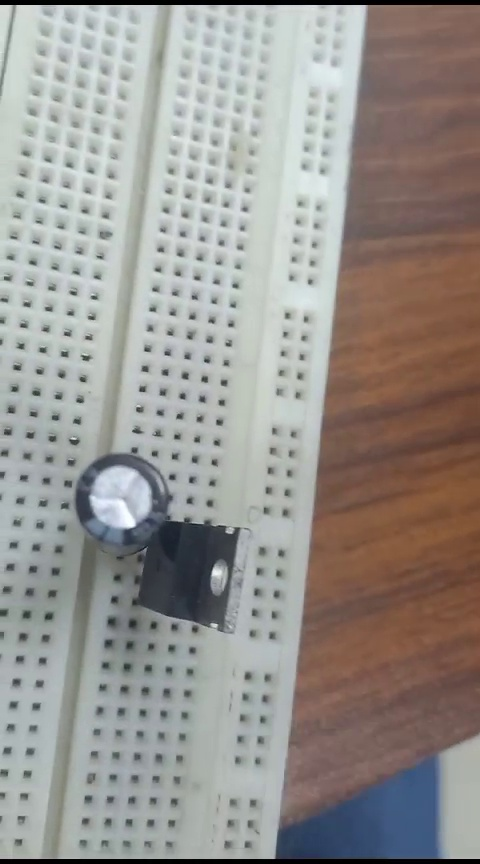capacitor: (70, 451, 172, 551)
voltage regulator: (130, 520, 251, 633)
